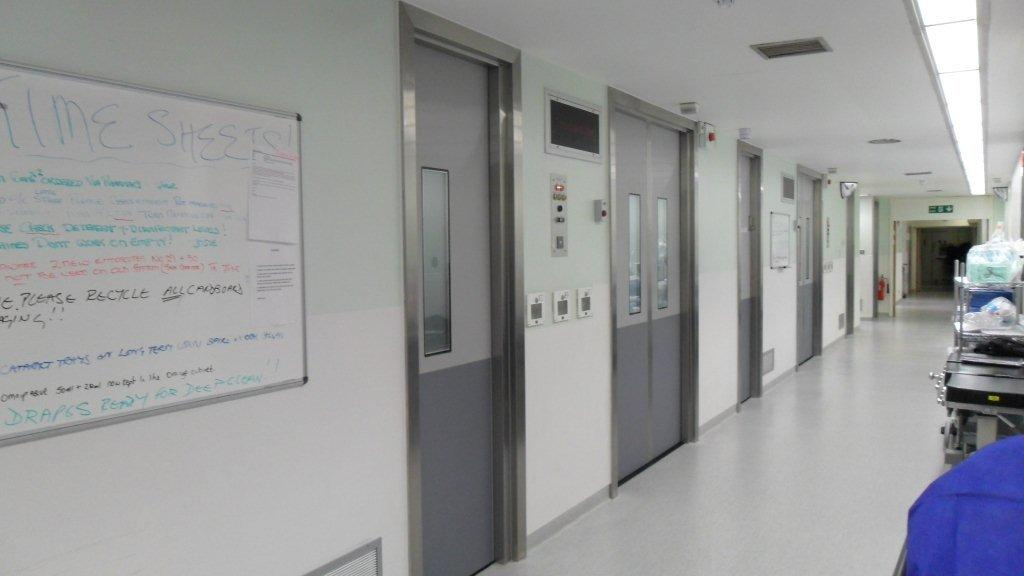incubator: (942, 238, 1024, 462)
